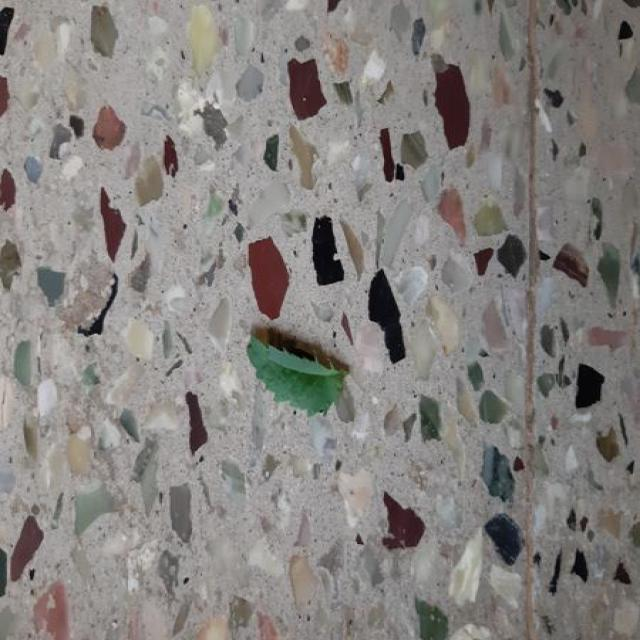marigold: (247, 328, 348, 414)
